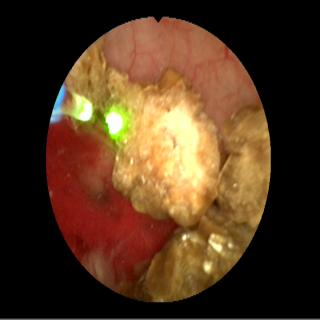laser: (105, 106, 128, 139), (74, 96, 91, 119)
stone: (67, 39, 270, 299)
